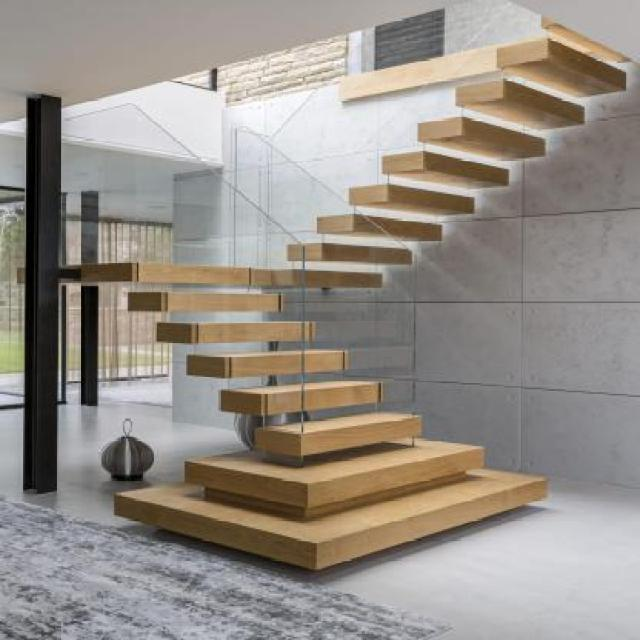stair: (102, 36, 630, 566)
